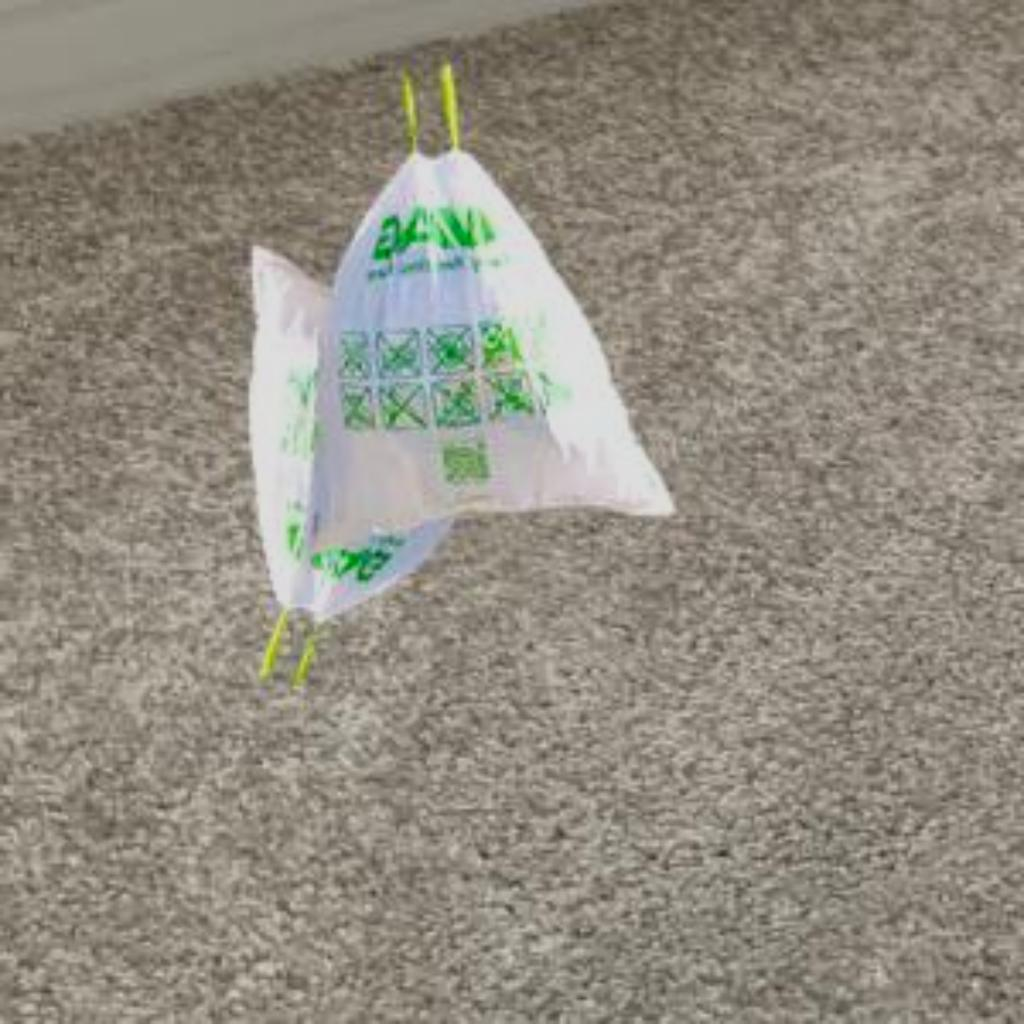garbage: (309, 72, 664, 631), (212, 225, 464, 669)
